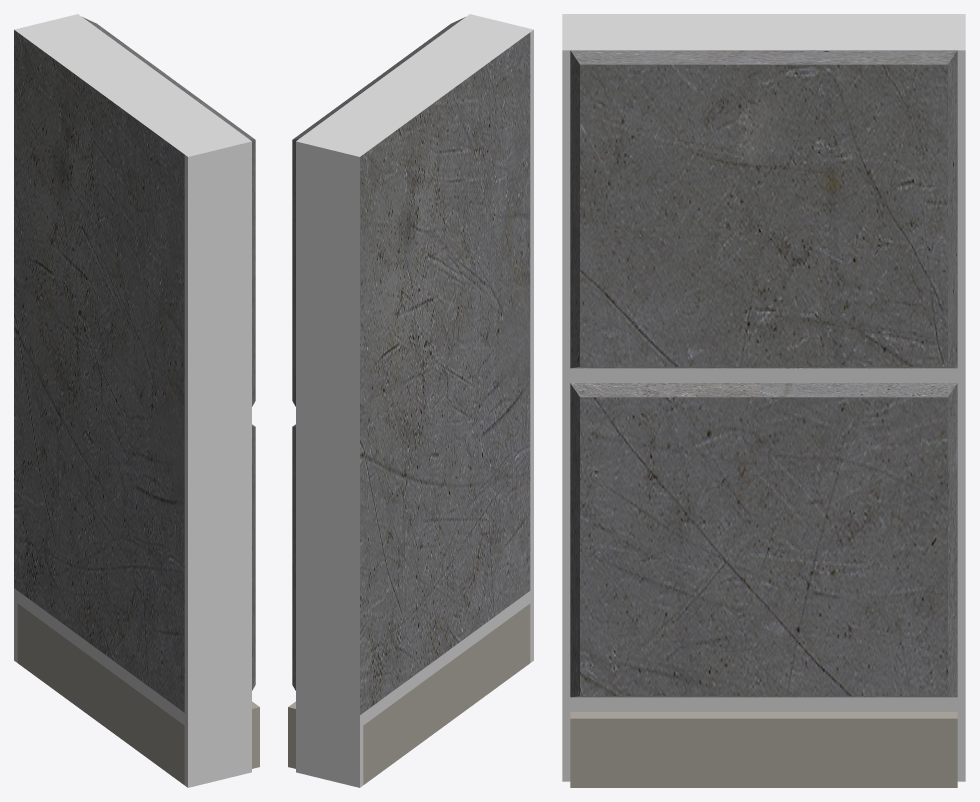
File: wall.fbx
3 views of the same model, side by side, from view 1: azimuth 30°, elevation 25°; view 2: azimuth 150°, elevation 25°; view 3: azimuth 270°, elevation 25° (orthographic). The views are drawn at different scales.
Parts seen in each view (by area): view 1: Cube; view 2: Cube; view 3: Cube.
Boxes of the visible parts, <box> form: Cube: <box>14,14,259,787</box>; Cube: <box>288,14,533,787</box>; Cube: <box>562,14,965,787</box>.
Size of the model in its own units: 100 by 800 by 400.
3 materials, 1 textured.
